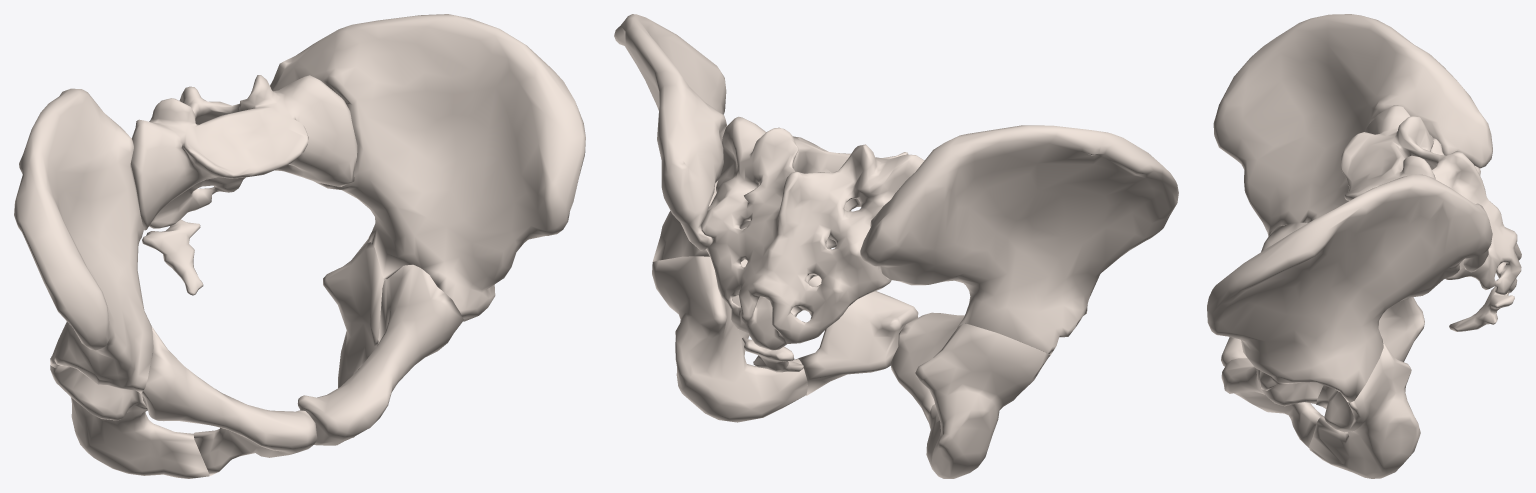
The model's file is vh_f_pelvis-20.glb.
3 views of the same model, side by side, from view 1: azimuth 30°, elevation 25°; view 2: azimuth 150°, elevation 25°; view 3: azimuth 270°, elevation 25° (orthographic). The views are drawn at different scales.
Parts seen in each view (by area): view 1: VH_F_ilium_compact_bone_L, VH_F_ilium_compact_bone_R, VH_F_sacrum, VH_F_pubis_compact_bone_L, VH_F_pubis_compact_bone_R, VH_F_ischium_compact_bone_R, VH_F_ischium_compact_bone_L, VH_F_coccyx; view 2: VH_F_ilium_compact_bone_R, VH_F_sacrum, VH_F_ilium_compact_bone_L, VH_F_ischium_compact_bone_L, VH_F_ischium_compact_bone_R, VH_F_pubis_compact_bone_L, VH_F_pubis_compact_bone_R, VH_F_coccyx; view 3: VH_F_ilium_compact_bone_L, VH_F_ilium_compact_bone_R, VH_F_sacrum, VH_F_ischium_compact_bone_L, VH_F_pubis_compact_bone_L, VH_F_ischium_compact_bone_R, VH_F_coccyx, VH_F_pubis_compact_bone_R.
Part boxes in pixels (bbox=[...]): VH_F_ilium_compact_bone_L: bbox=[270, 14, 585, 321]; VH_F_ilium_compact_bone_R: bbox=[14, 88, 153, 393]; VH_F_sacrum: bbox=[131, 75, 357, 230]; VH_F_pubis_compact_bone_L: bbox=[297, 265, 463, 445]; VH_F_pubis_compact_bone_R: bbox=[140, 326, 317, 475]; VH_F_ischium_compact_bone_R: bbox=[50, 356, 209, 478]; VH_F_ischium_compact_bone_L: bbox=[323, 239, 384, 437]; VH_F_coccyx: bbox=[142, 219, 203, 295]; VH_F_ilium_compact_bone_R: bbox=[860, 125, 1178, 355]; VH_F_sacrum: bbox=[701, 116, 924, 350]; VH_F_ilium_compact_bone_L: bbox=[614, 14, 746, 261]; VH_F_ischium_compact_bone_L: bbox=[652, 256, 807, 422]; VH_F_ischium_compact_bone_R: bbox=[915, 323, 1050, 478]; VH_F_pubis_compact_bone_L: bbox=[741, 259, 918, 395]; VH_F_pubis_compact_bone_R: bbox=[890, 312, 964, 422]; VH_F_coccyx: bbox=[742, 337, 803, 372]; VH_F_ilium_compact_bone_L: bbox=[1207, 174, 1492, 402]; VH_F_ilium_compact_bone_R: bbox=[1213, 14, 1492, 236]; VH_F_sacrum: bbox=[1341, 105, 1521, 295]; VH_F_ischium_compact_bone_L: bbox=[1309, 341, 1420, 478]; VH_F_pubis_compact_bone_L: bbox=[1221, 358, 1323, 447]; VH_F_ischium_compact_bone_R: bbox=[1378, 297, 1424, 361]; VH_F_coccyx: bbox=[1449, 287, 1514, 331]; VH_F_pubis_compact_bone_R: bbox=[1221, 222, 1307, 366].
Bounding box in the file's own units: 0.3167 × 0.2119 × 0.1823.
